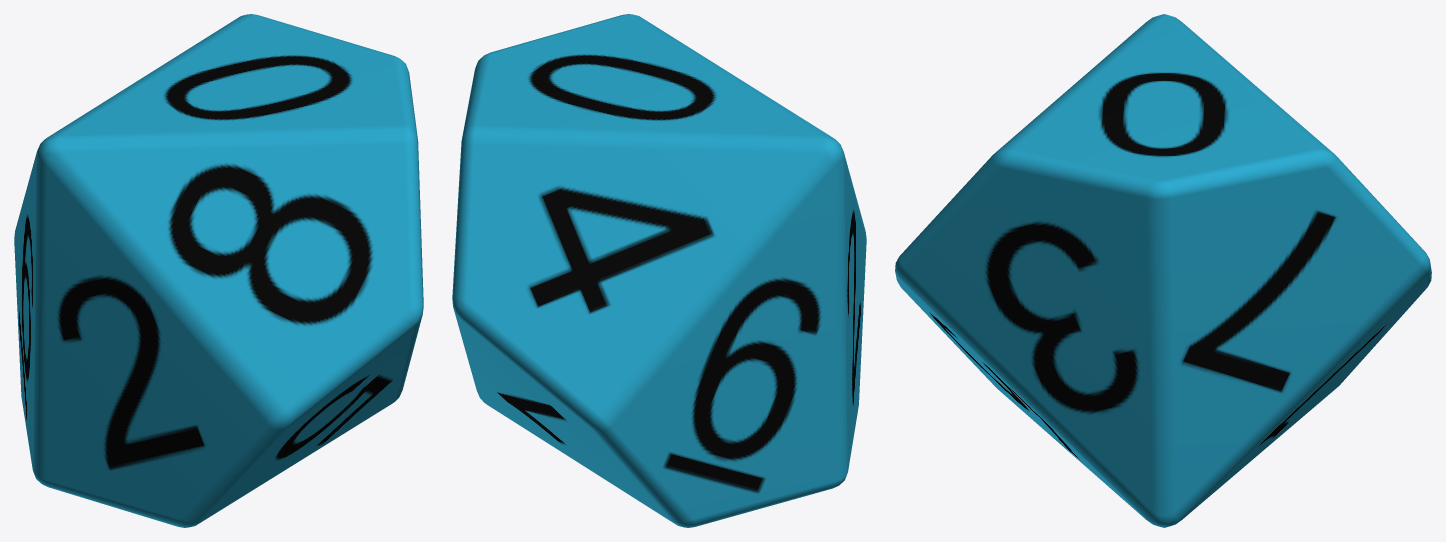
The picture shows the model from 3 angles, left to right: view 1: azimuth 30°, elevation 25°; view 2: azimuth 150°, elevation 25°; view 3: azimuth 270°, elevation 25°; orthographic projection.
Visible parts, largest first — view 1: Object_2; view 2: Object_2; view 3: Object_2.
Part boxes in pixels (<box>): Object_2: <box>14,14,423,527</box>; Object_2: <box>452,14,866,527</box>; Object_2: <box>895,14,1431,527</box>.
Bounding box in the file's own units: 2.19 × 2 × 2.75.
1 material, 1 textured.
